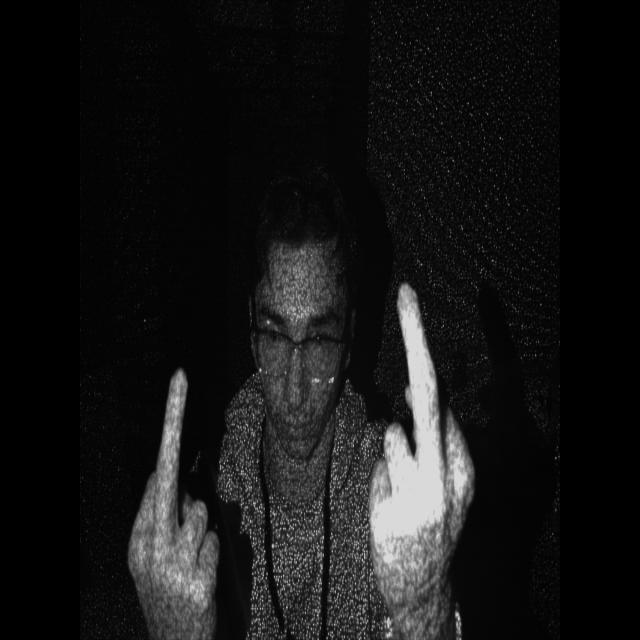FUCK YOU: (358, 264, 483, 624), (123, 350, 228, 640)
